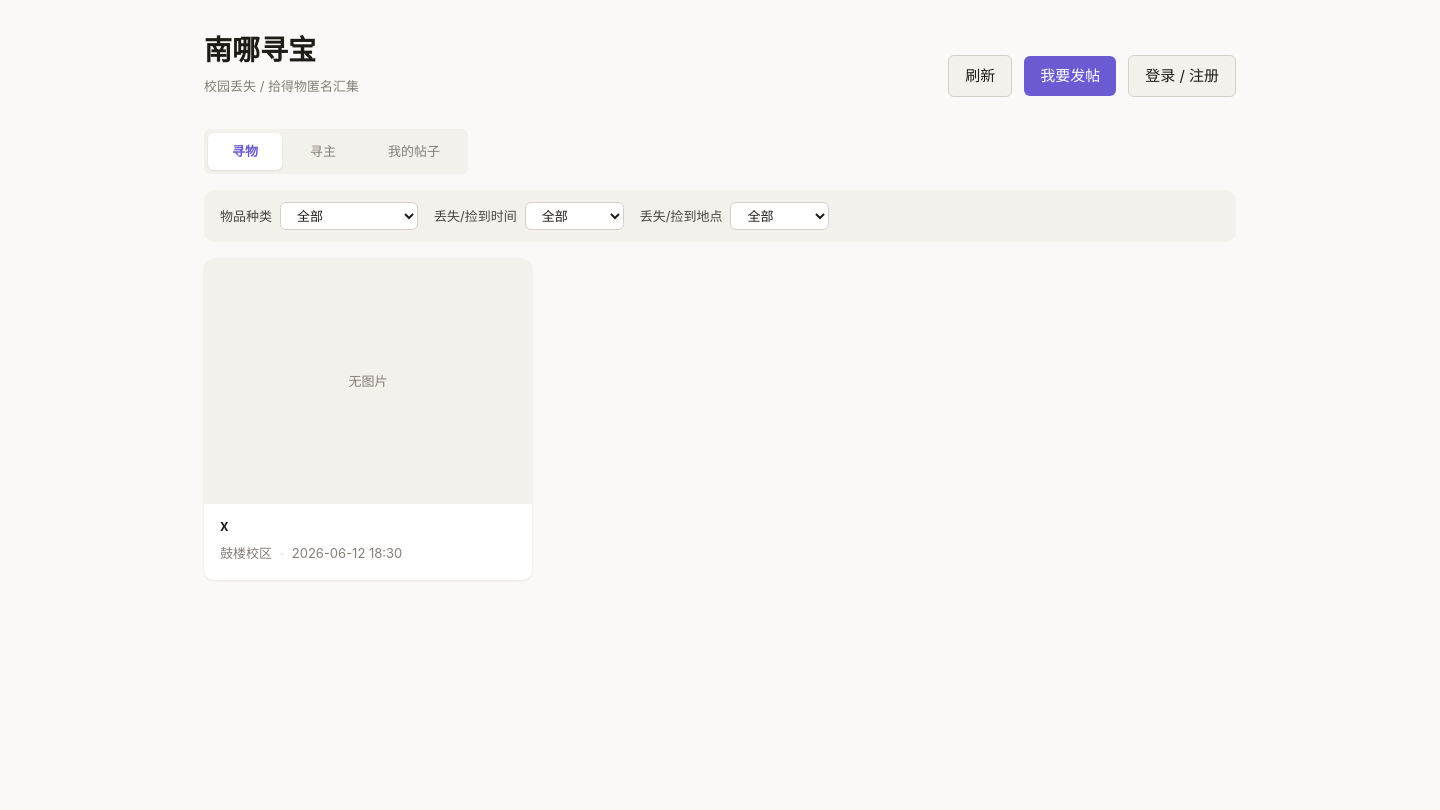
App homepage listing › 点击列表卡片切换到 detail 视图
Click the button with test id "post-card". click: (368, 419)
box: top-left (204, 258), bottom-right (532, 580)
(page scrolled)
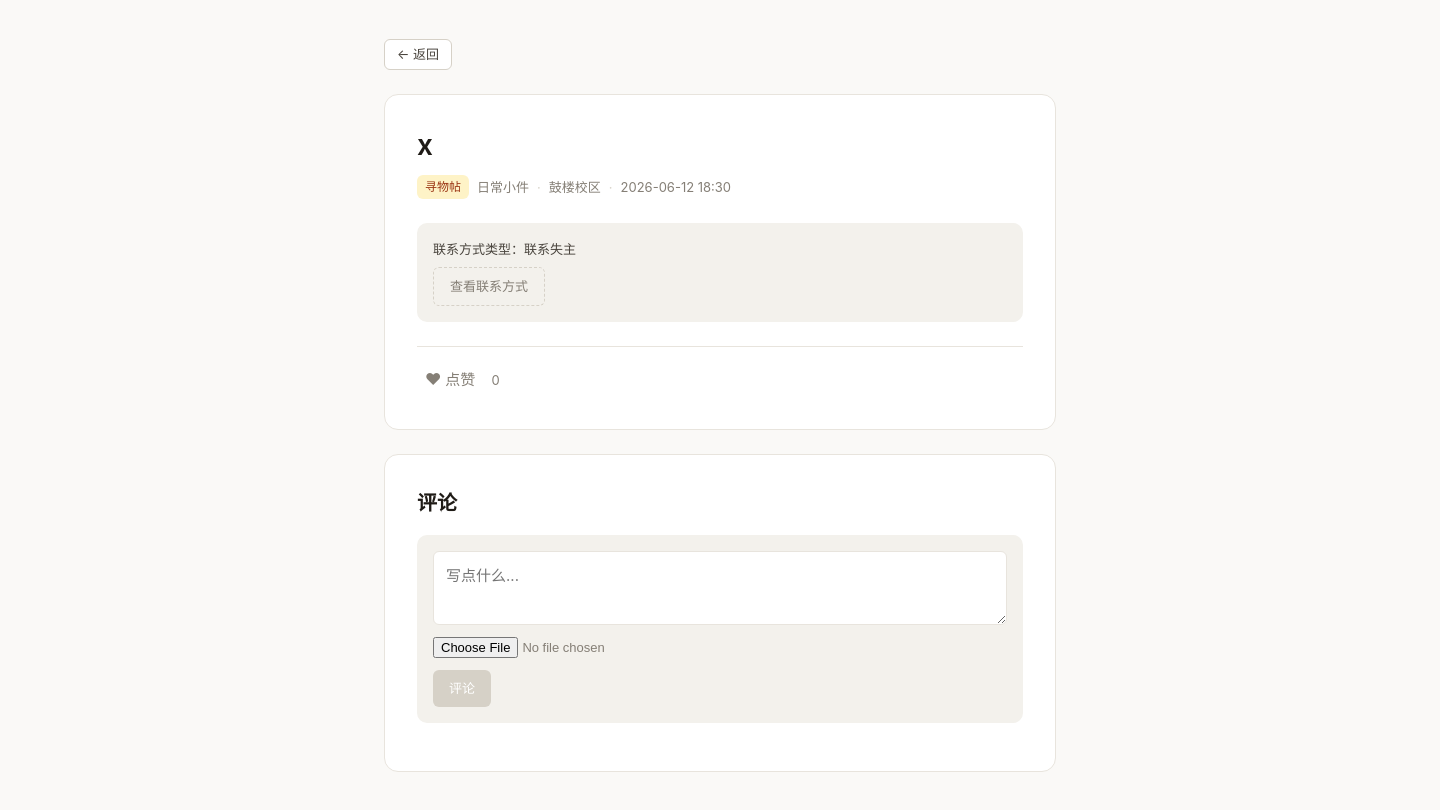
Check: the element that starts with "← 返回" is shown, box top-left (360, 15), bottom-right (1080, 796)
